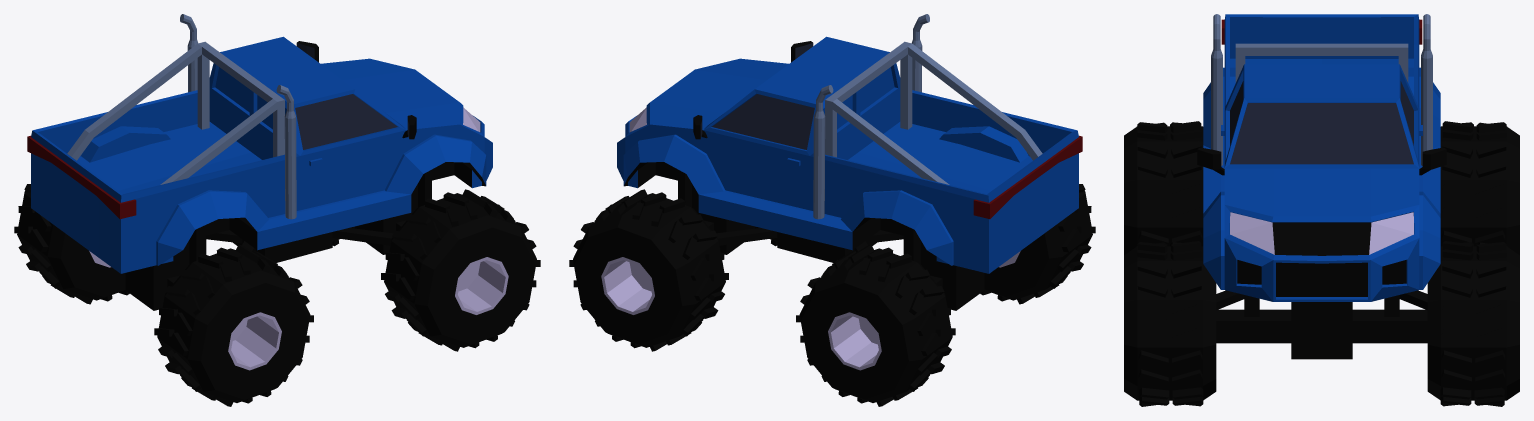
Rendered from monster.glb.
The picture shows the model from 3 angles, left to right: view 1: azimuth 30°, elevation 25°; view 2: azimuth 150°, elevation 25°; view 3: azimuth 270°, elevation 25°; orthographic projection. The views are drawn at different scales.
Visible parts, largest first — view 1: body_paint, wheel_fr_tire (×3), wheel_rr_tire (×3), body_accent, body_trim, wheel_rl_tire (×4), body_glass, wheel_fr_rim, wheel_rr_rim, body_tail; view 2: body_paint, wheel_fl_tire (×3), wheel_rl_tire (×3), body_accent, body_trim, wheel_rr_tire (×4), body_glass, wheel_fl_rim, wheel_rl_rim, body_tail; view 3: body_paint, body_trim, wheel_fl_tire (×3), wheel_fr_tire (×3), body_glass, wheel_rl_tire (×3), wheel_rr_tire (×3), body_accent, body_lamp.
Part boxes in pixels (x1,y1,x2,y2): body_paint: [31, 36, 492, 273]; wheel_fr_tire (×3): [381, 189, 540, 351]; wheel_rr_tire (×3): [154, 244, 313, 406]; body_accent: [67, 14, 296, 219]; body_trim: [125, 41, 485, 310]; wheel_rl_tire (×4): [14, 184, 129, 304]; body_glass: [295, 43, 409, 149]; wheel_fr_rim: [455, 257, 508, 314]; wheel_rr_rim: [228, 312, 281, 370]; body_tail: [27, 135, 136, 219]; body_paint: [617, 36, 1078, 273]; wheel_fl_tire (×3): [569, 189, 728, 351]; wheel_rl_tire (×3): [796, 244, 955, 406]; body_accent: [813, 14, 1042, 219]; body_trim: [624, 41, 984, 310]; wheel_rr_tire (×4): [980, 184, 1095, 304]; body_glass: [700, 43, 814, 149]; wheel_fl_rim: [601, 257, 654, 314]; wheel_rl_rim: [828, 312, 881, 370]; body_tail: [973, 135, 1082, 219]; body_paint: [1203, 14, 1440, 301]; body_trim: [1197, 147, 1446, 359]; wheel_fl_tire (×3): [1427, 241, 1519, 406]; wheel_fr_tire (×3): [1124, 241, 1216, 406]; body_glass: [1230, 81, 1413, 164]; wheel_rl_tire (×3): [1440, 121, 1519, 254]; wheel_rr_tire (×3): [1124, 121, 1203, 254]; body_accent: [1211, 14, 1432, 165]; body_lamp: [1230, 212, 1413, 254].
Size of the model in its own units: 5.49 by 3.73 by 4.47.
